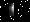person: (7, 4, 14, 17)
